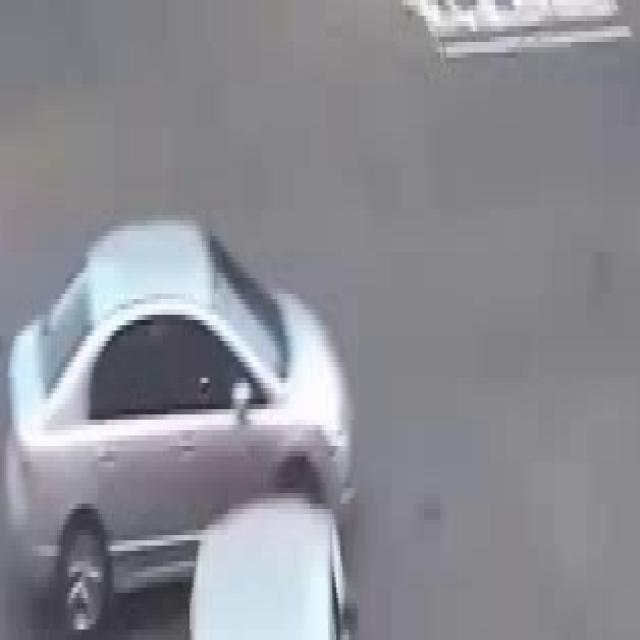accident: (40, 224, 384, 611)
